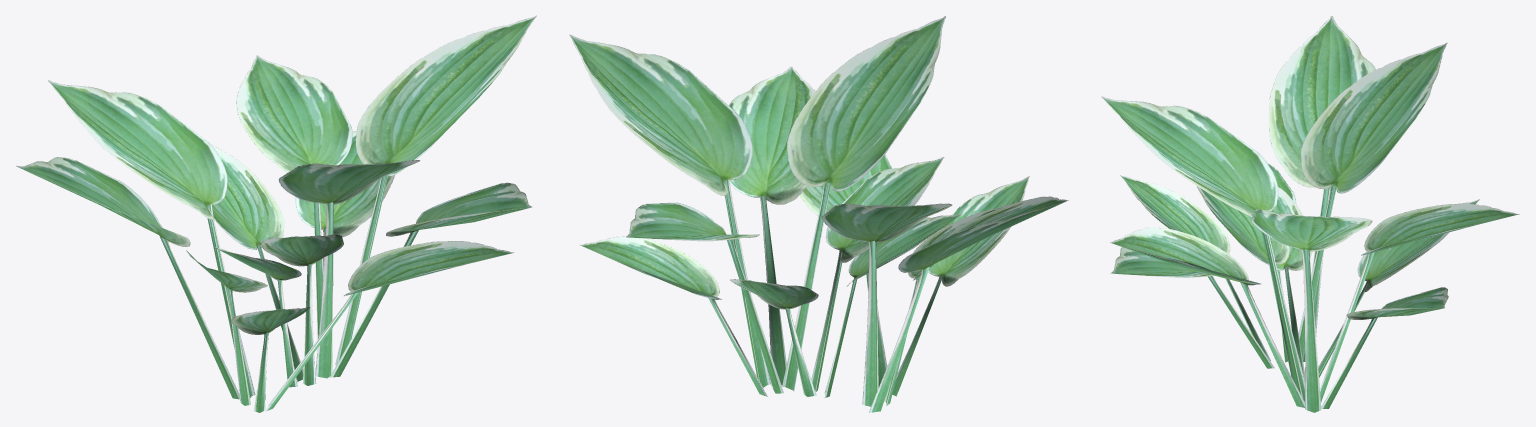
File: plant_small_wg_03T.fbx
3 views of the same model, side by side, from view 1: azimuth 30°, elevation 25°; view 2: azimuth 150°, elevation 25°; view 3: azimuth 270°, elevation 25° (orthographic). The views are drawn at different scales.
Visible parts, largest first — view 1: plant_small_wg_03T; view 2: plant_small_wg_03T; view 3: plant_small_wg_03T.
Boxes of the visible parts, x1,y1,x2,y2 form: plant_small_wg_03T: (16, 15, 536, 412); plant_small_wg_03T: (569, 16, 1068, 412); plant_small_wg_03T: (1101, 16, 1519, 412).
Size of the model in its own units: 71.94 by 40.91 by 55.08.
